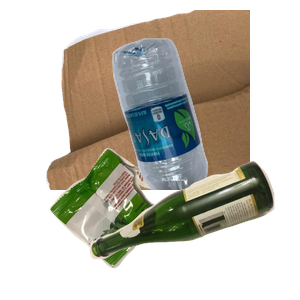cardboard: (43, 10, 283, 190)
glass: (87, 158, 300, 300)
plastic: (110, 36, 300, 216)
trash: (47, 146, 220, 300)
